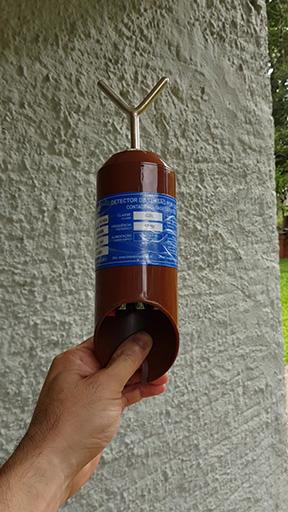Detector_Tensao_Contato: (91, 76, 179, 388)
